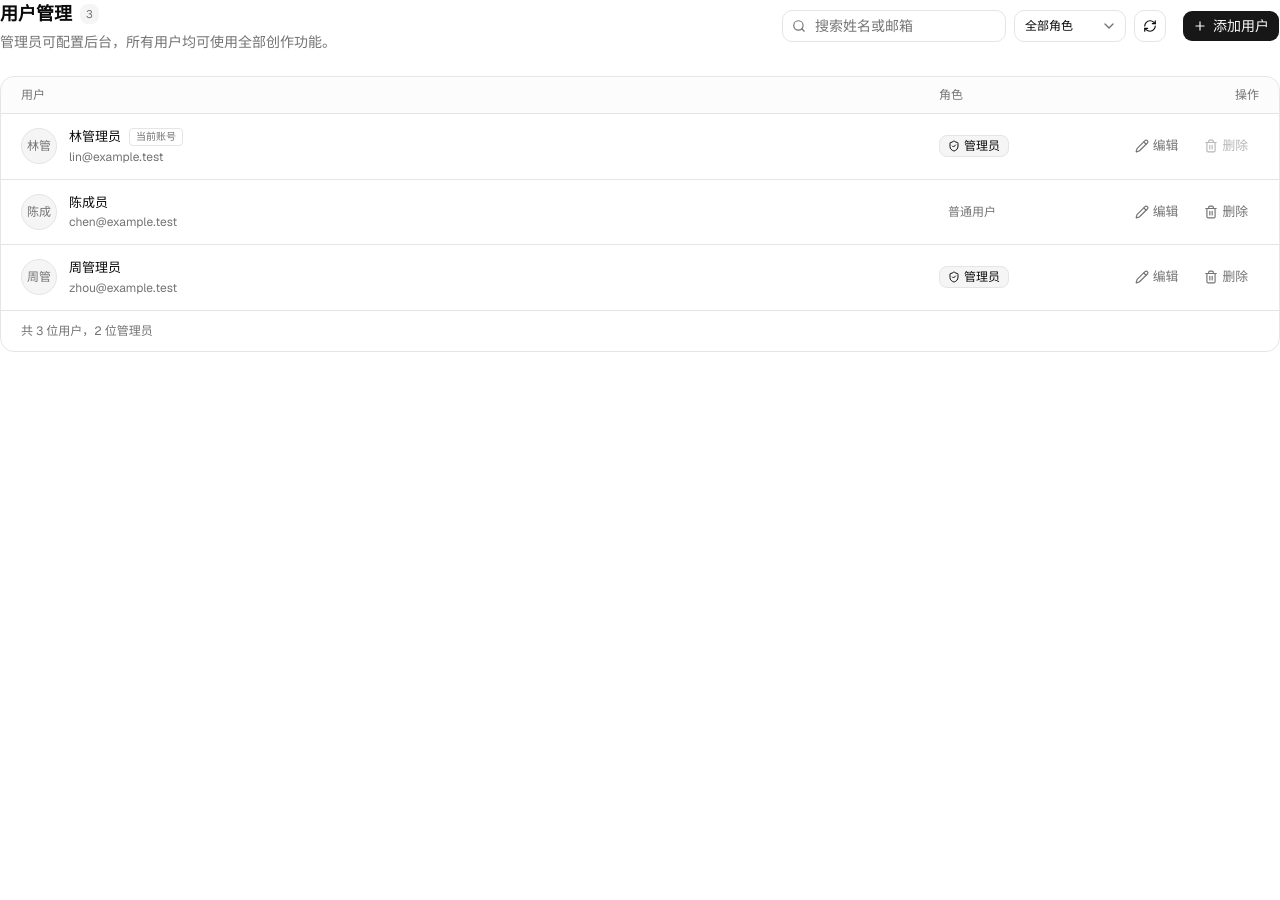
Test case: requires confirmation, identifies the target and safely cancels deletion
Check: the button with aria-label "删除 林管理员" is disabled, box [1193, 132, 1259, 160]
Click the button with aria-label "删除 陈成员".
click(1226, 212)  # box [1193, 198, 1259, 226]
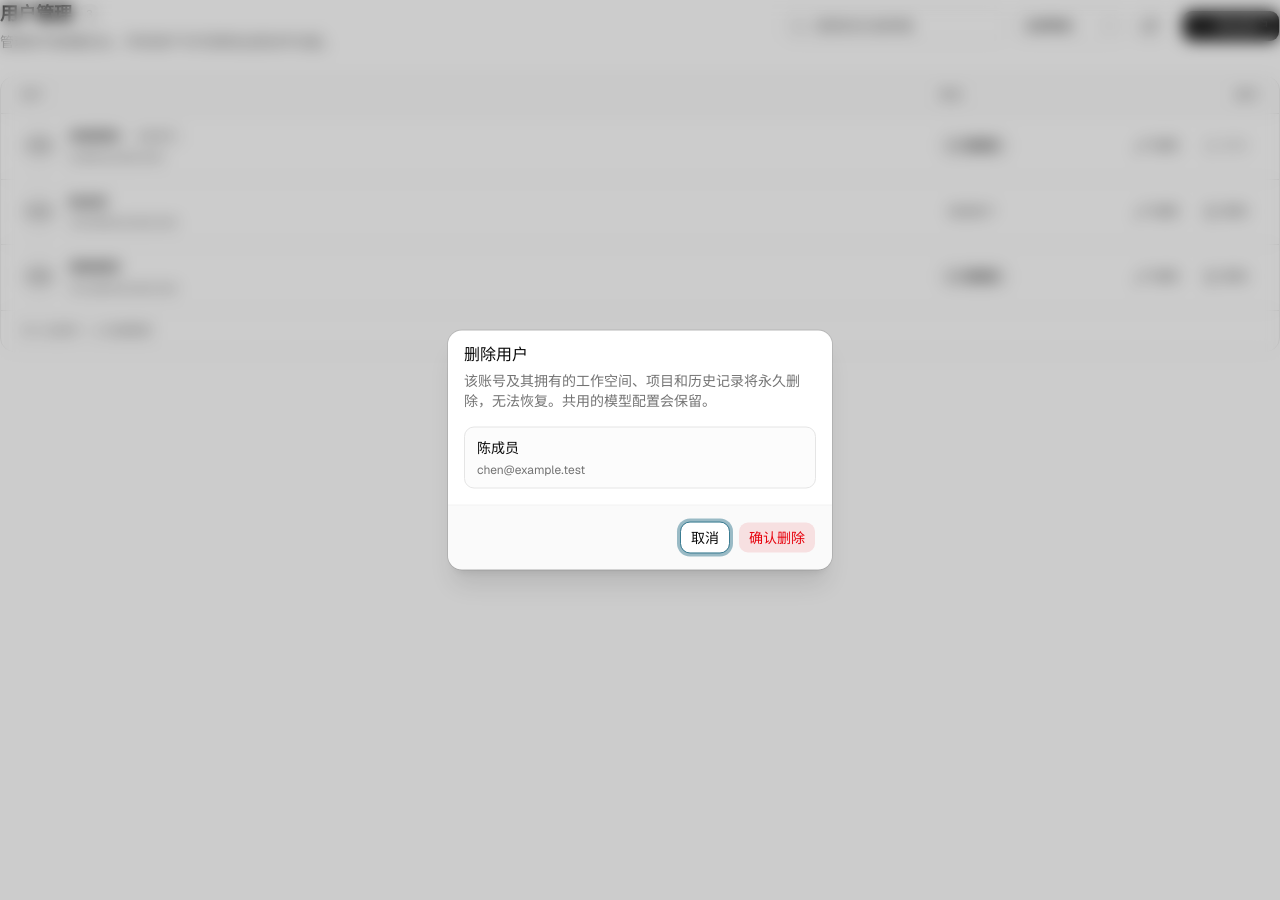
Check: the text "陈成员" is shown, box [477, 438, 519, 456]
Check: the text "chen@example.test" is shown, box [477, 462, 585, 478]
Check: the text "该账号及其拥有的工作空间、项目和历史记录将永久删除，无法恢复。共用的模型配置会保留。" is shown, box [464, 370, 816, 410]
Click the button "取消".
click(705, 538)  # box [680, 522, 730, 554]
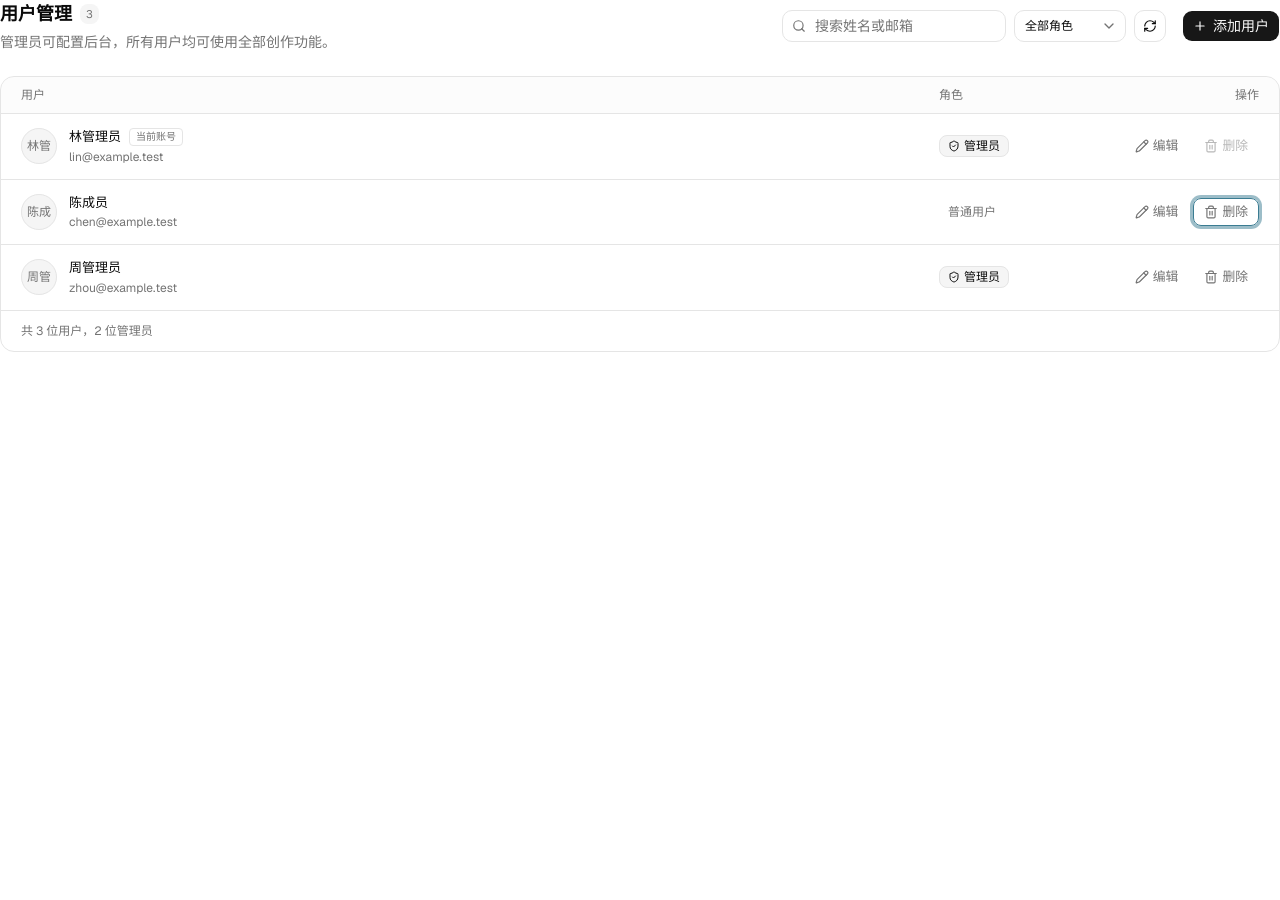
Check: the dialog is gone
Click the button with aria-label "删除 陈成员".
click(1226, 212)  # box [1193, 198, 1259, 226]
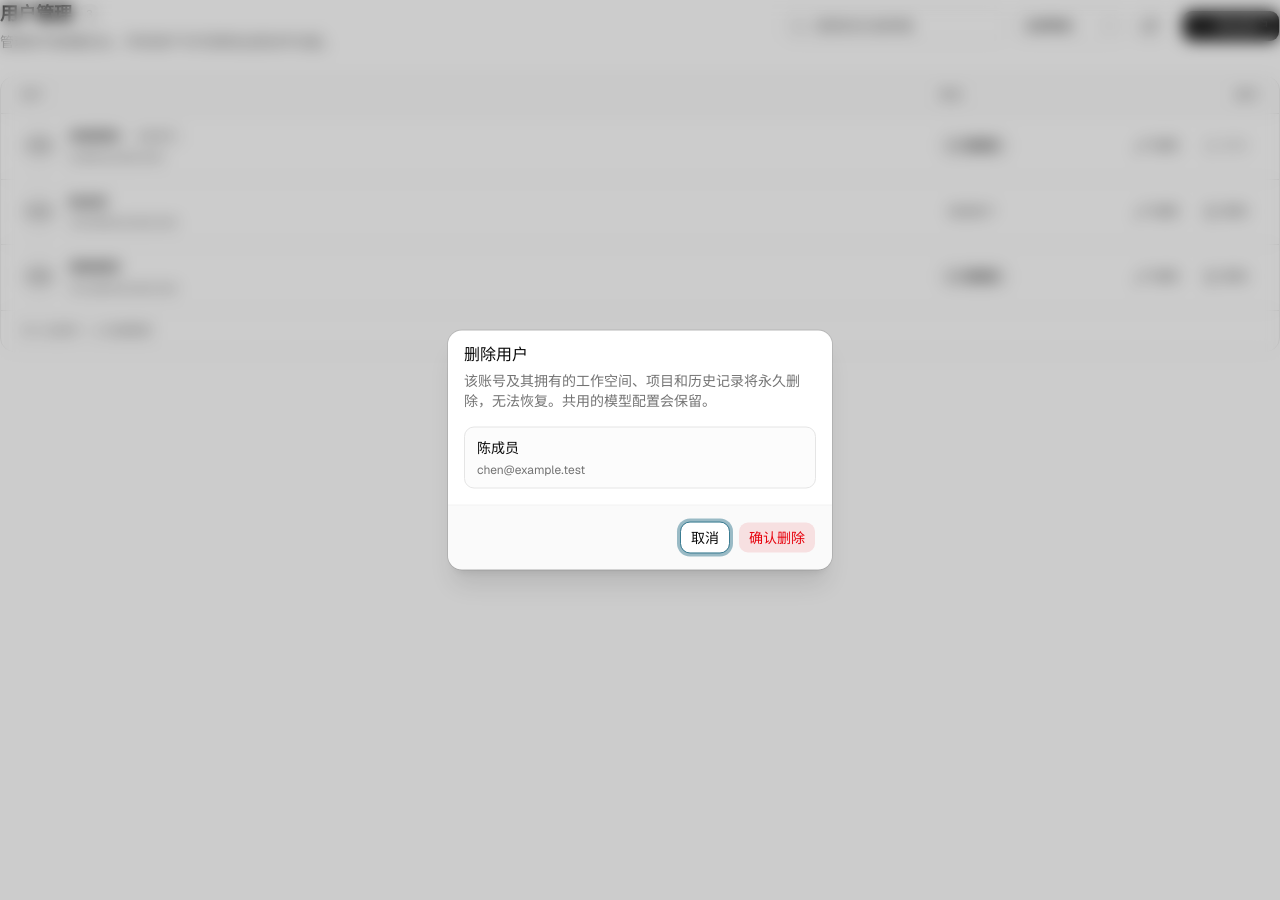
Press Escape
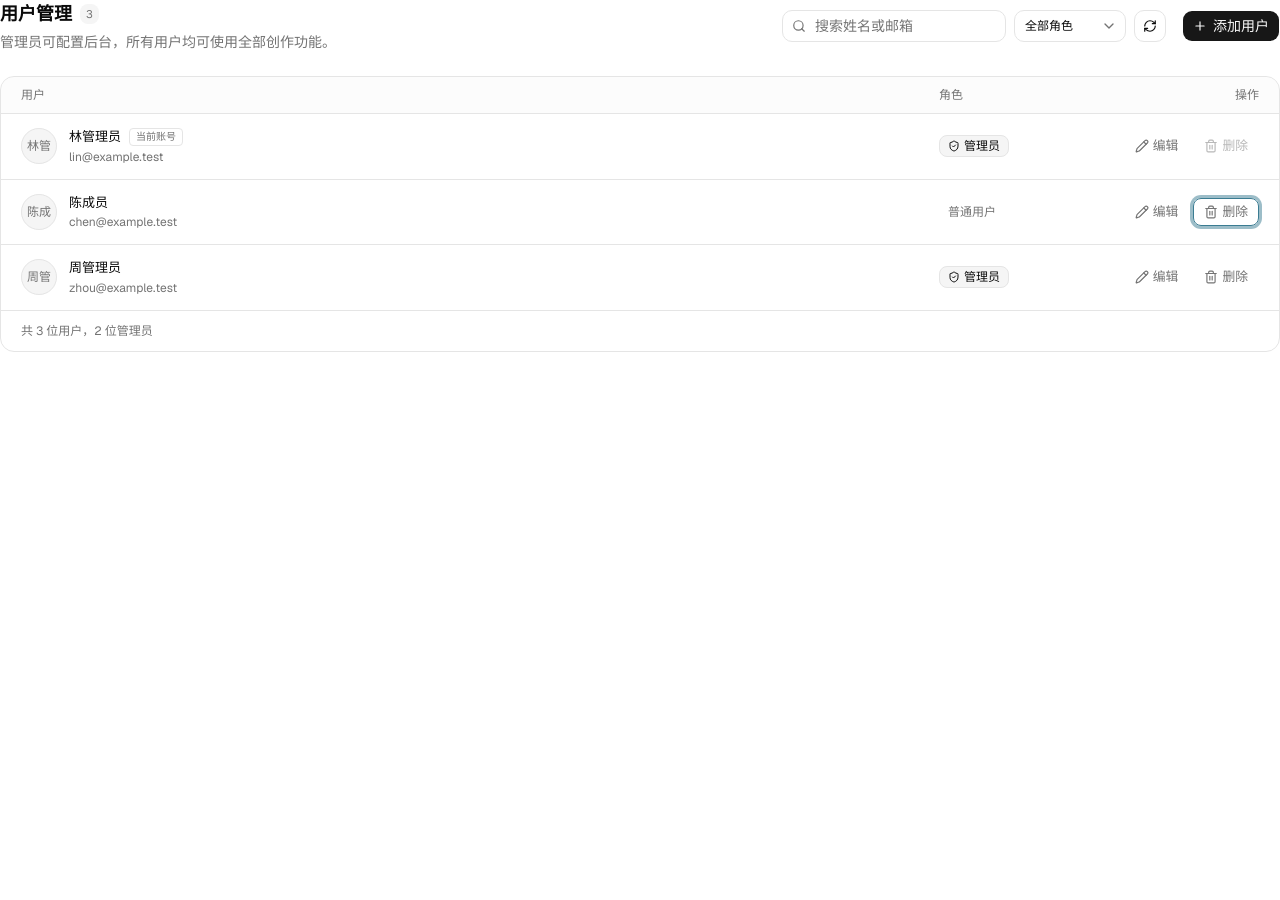
Check: the row "陈成 陈成员 chen@example.test 普通用户 编辑 删除" is shown, box [1, 179, 1279, 245]
Check: the dialog is gone
